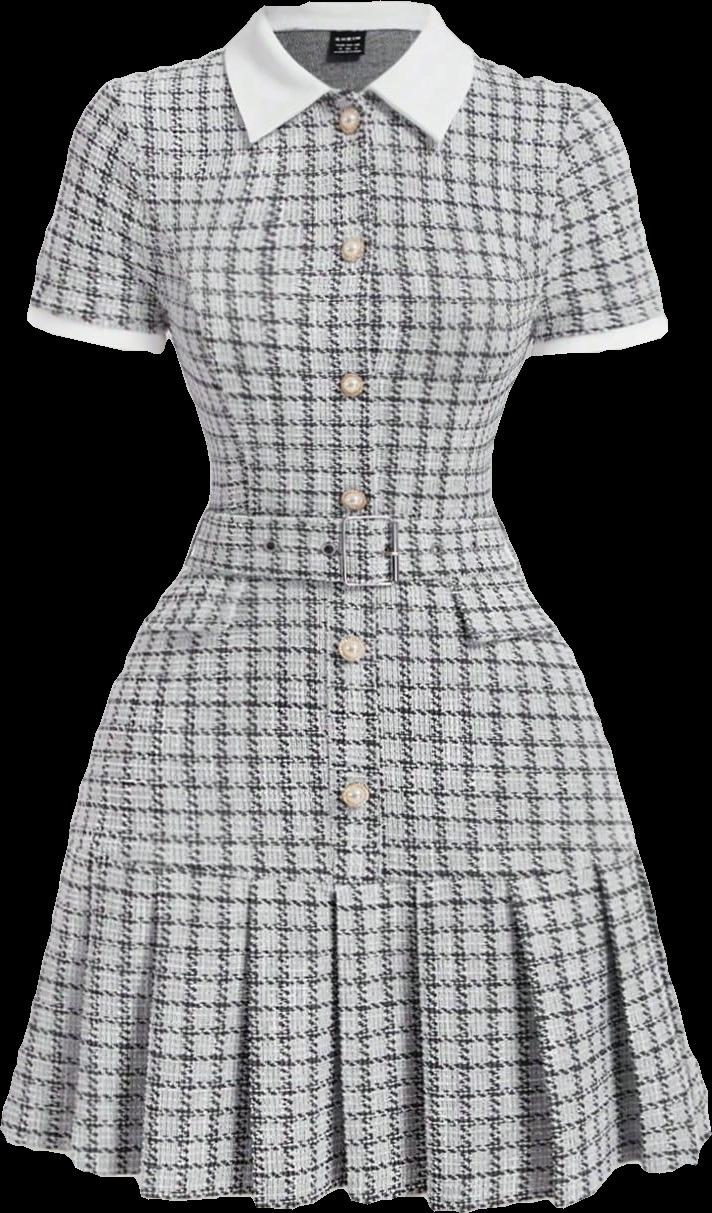Bodice: (110, 1, 571, 585)
Hemline: (0, 1119, 711, 1212)
Neckline: (260, 6, 439, 102)
Skirt: (1, 564, 710, 1212)
Sleeve: (27, 81, 171, 353), (531, 83, 667, 355)
Sleeveline: (104, 77, 182, 335), (525, 85, 578, 333)
Waistline: (185, 551, 520, 588)
